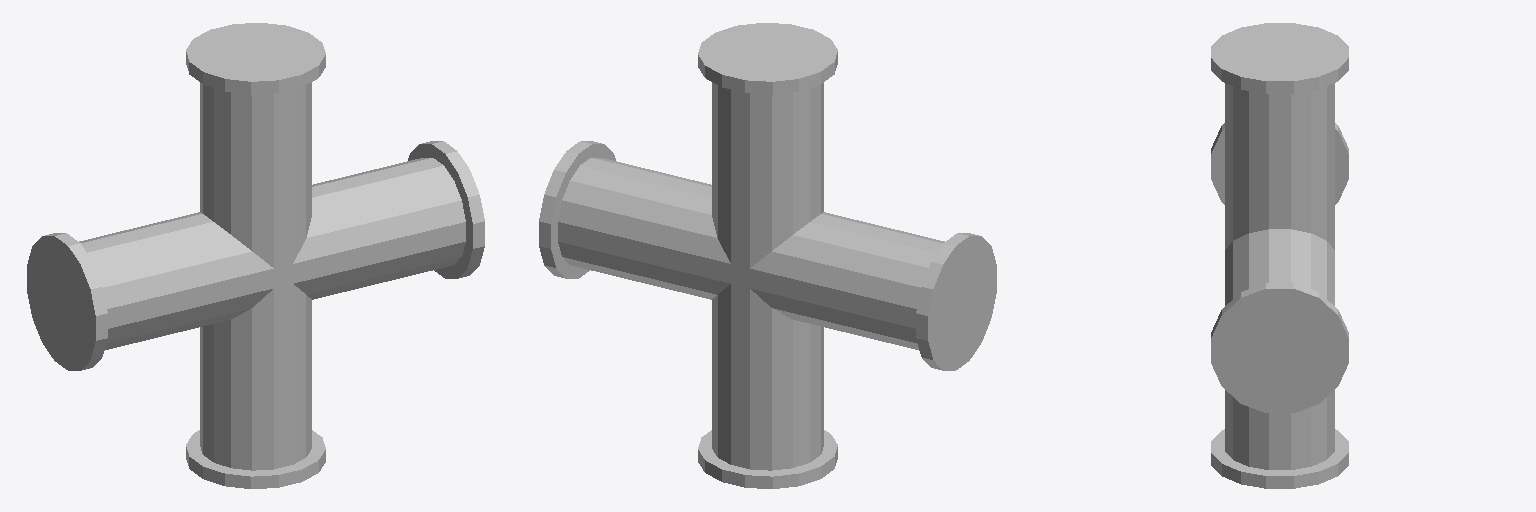
File: pipeworks_pipe_8.obj
3 views of the same model, side by side, from view 1: azimuth 30°, elevation 25°; view 2: azimuth 150°, elevation 25°; view 3: azimuth 270°, elevation 25° (orthographic).
Visible parts, largest first — view 1: Cube.000; view 2: Cube.000; view 3: Cube.000.
Part boxes in pixels (left/top/right/bottom): Cube.000: left=27, top=23, right=484, bottom=488; Cube.000: left=539, top=23, right=996, bottom=488; Cube.000: left=1211, top=23, right=1348, bottom=488.
Bounding box in the file's own units: 1 × 1 × 0.3065.